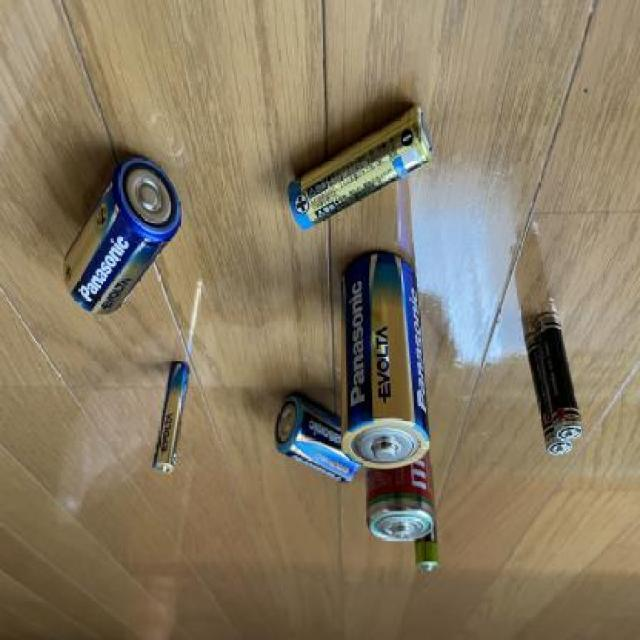AA: (282, 102, 436, 235)
AAA: (152, 358, 192, 478)
